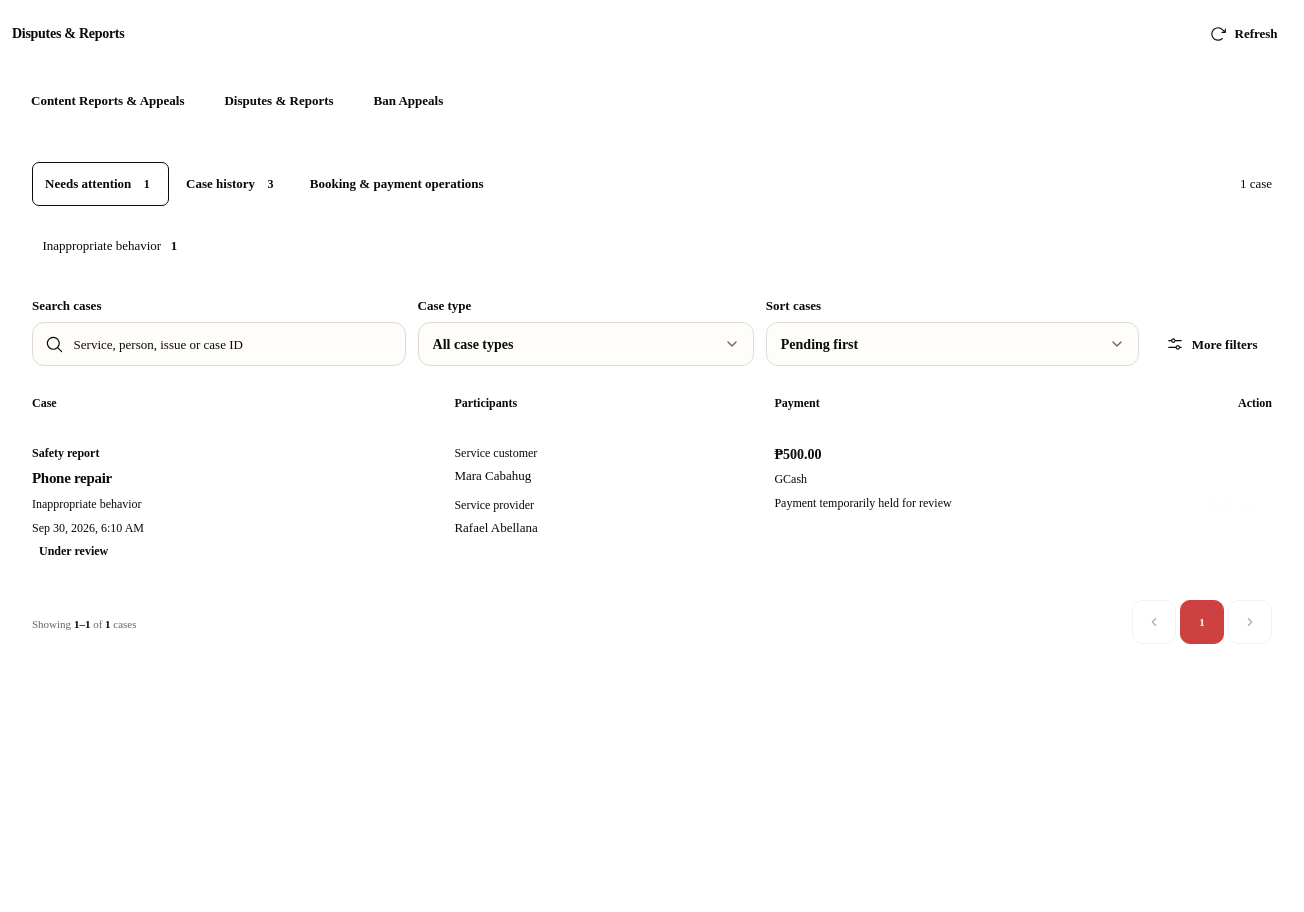
Test case: searches the full queue and offers closed-case history
The image size is (1304, 912).
Click the button "More filters": (1212, 344) [1151,322,1272,366]
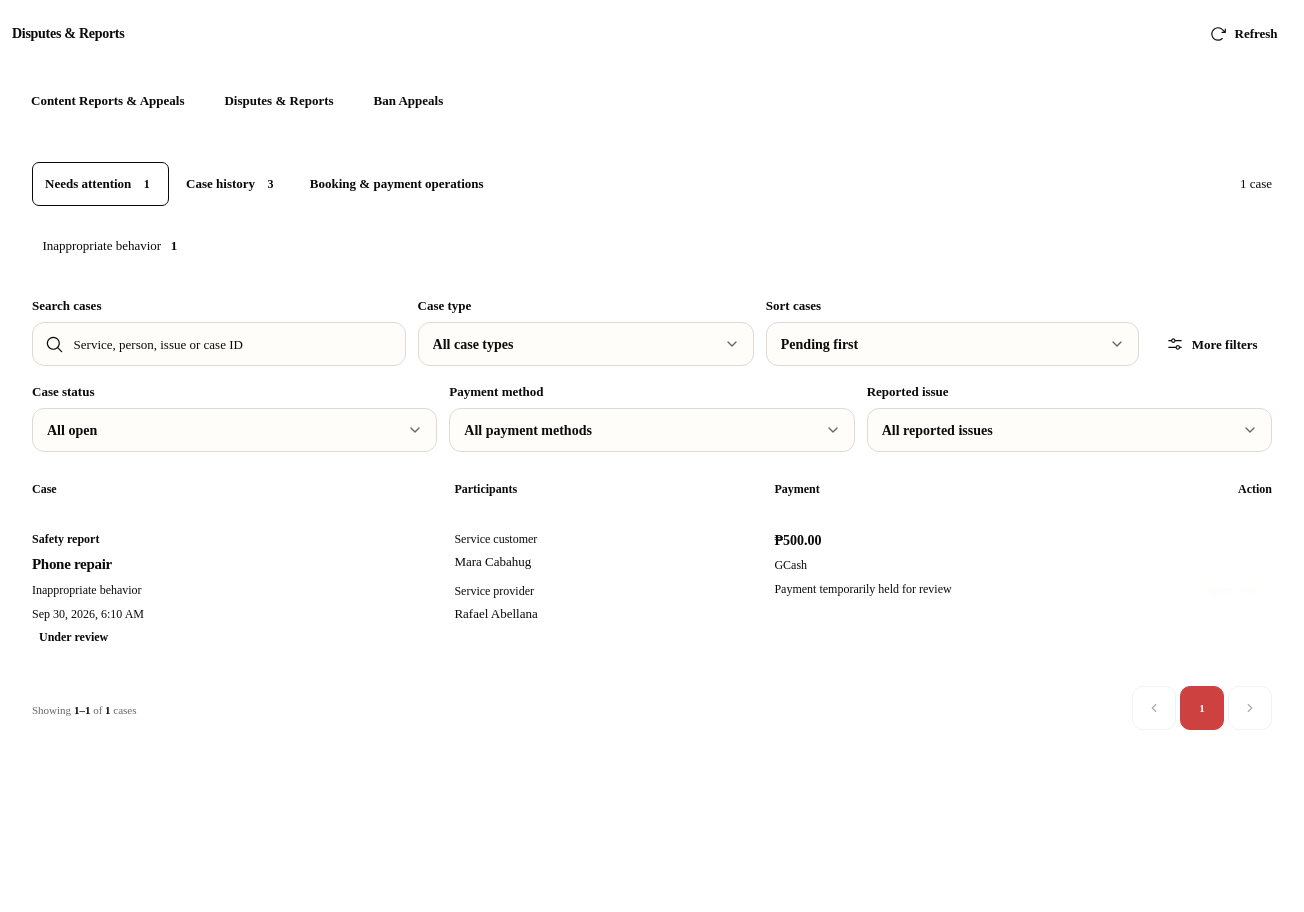
In the search field: (233, 344) [74,323,393,365], type "Mara"
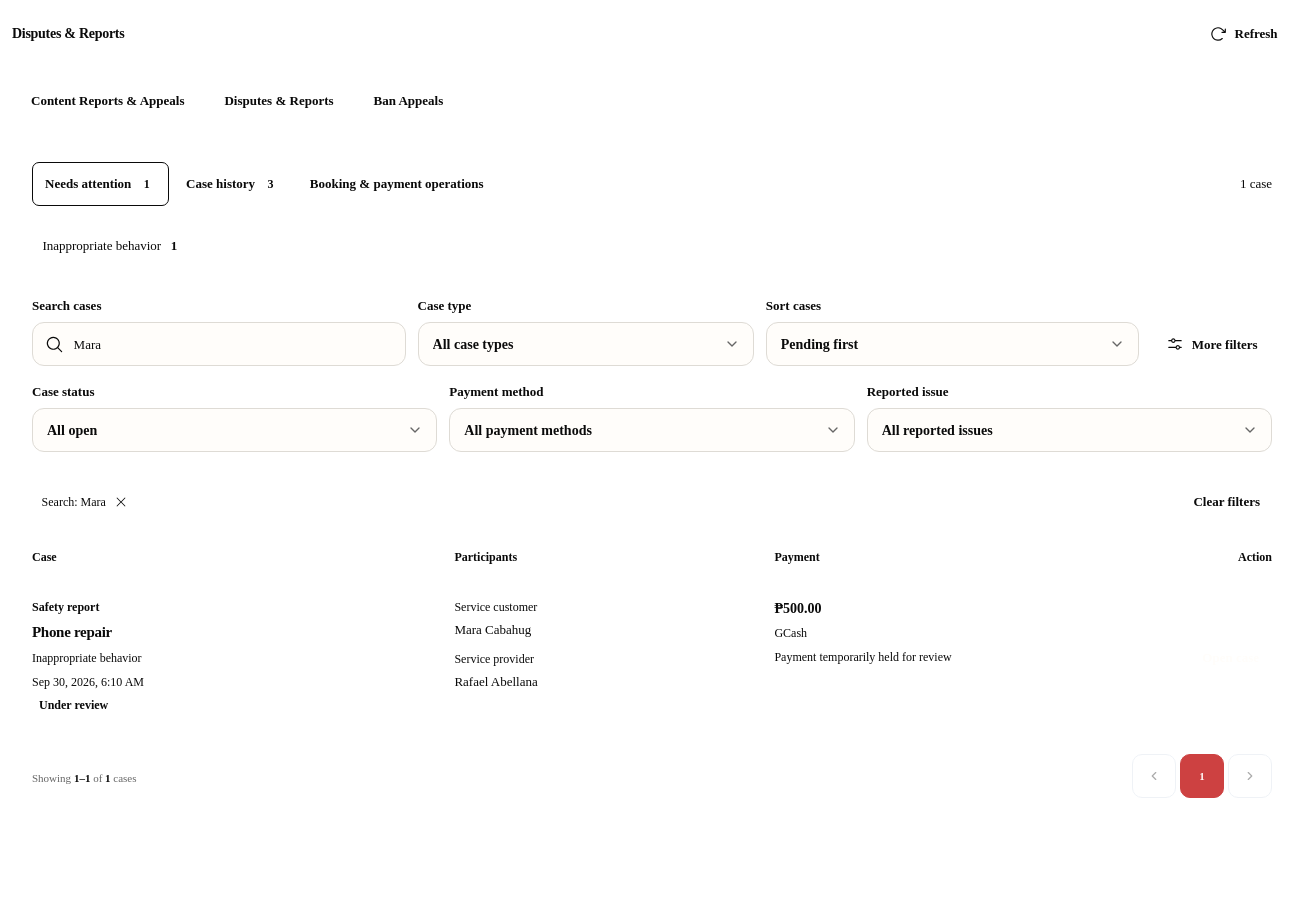
Click the button "Case history 3": (233, 184) [173,162,293,206]
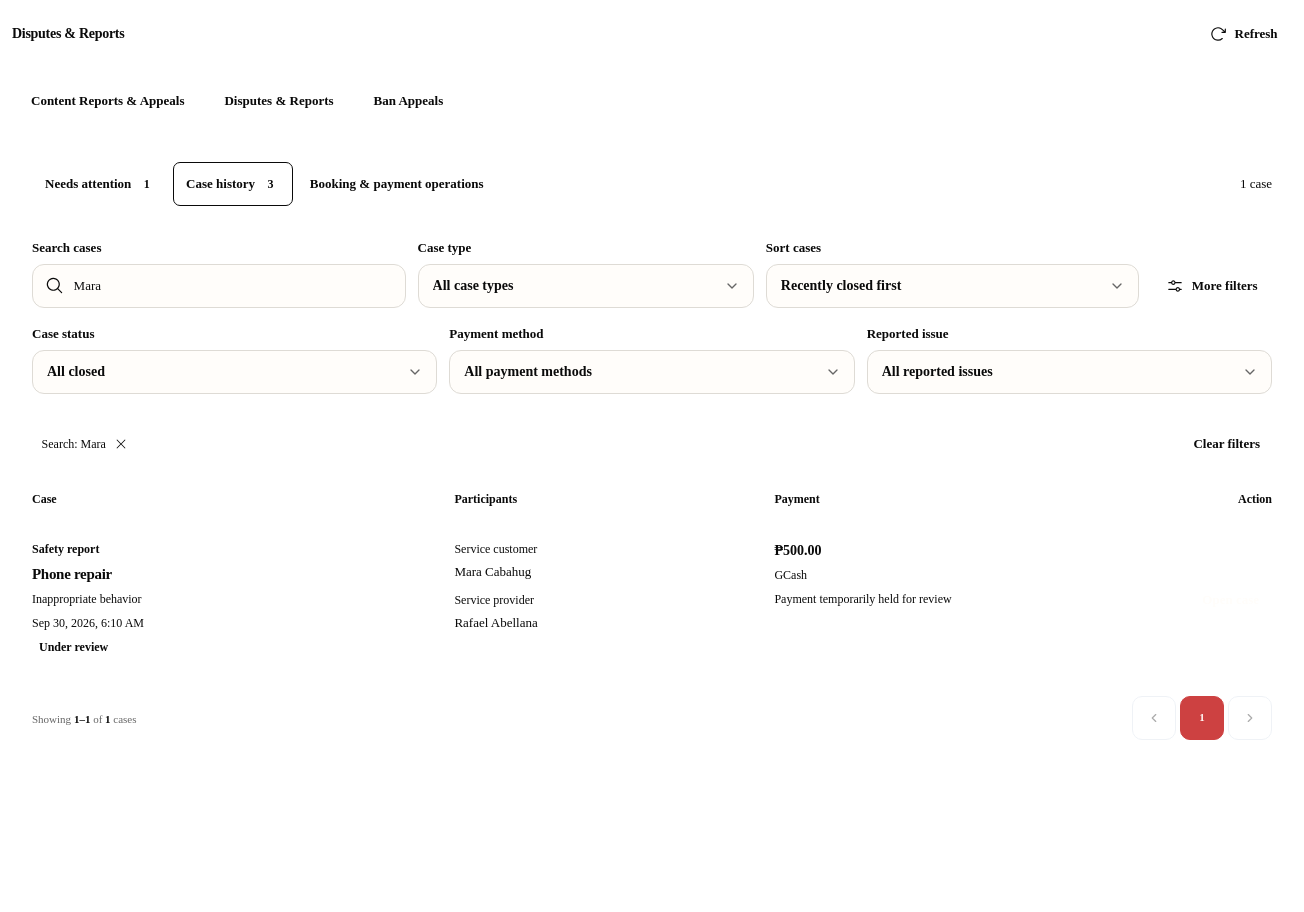
Expected: the option "Pending" is not shown
Expected: the dropdown labelled "Sort cases" shows "Recently closed first", [766,264,1139,308]
